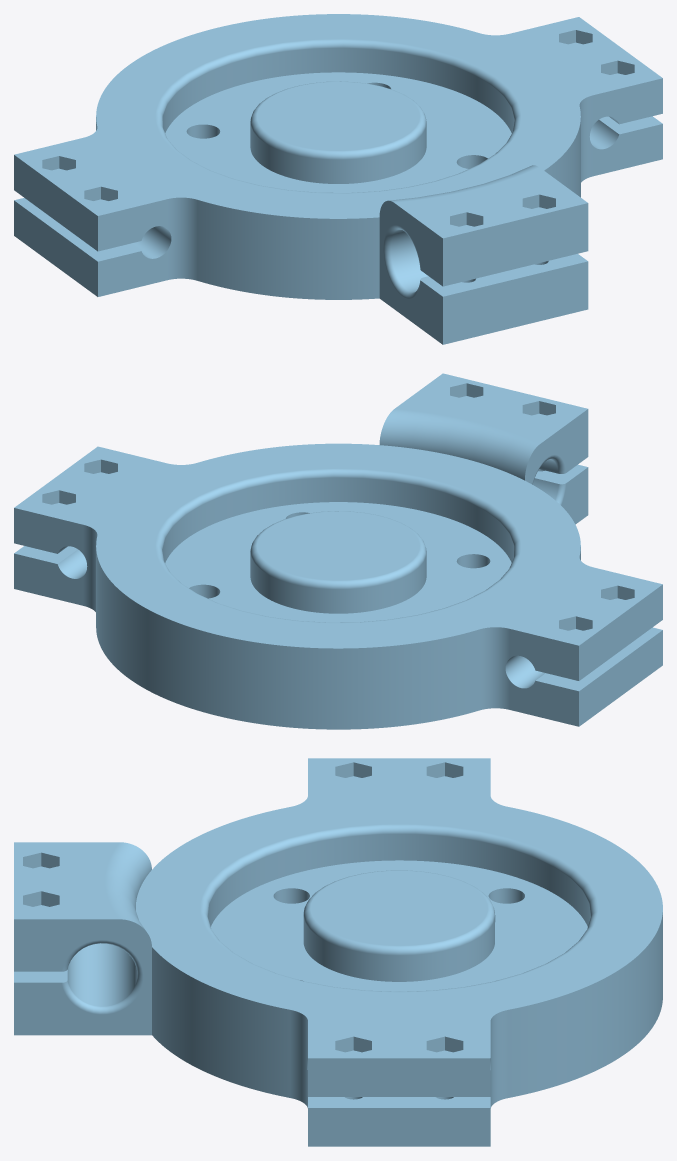
The picture shows the model from 3 angles, top to bottom: view 1: azimuth 30°, elevation 25°; view 2: azimuth 150°, elevation 25°; view 3: azimuth 270°, elevation 25°; orthographic projection. The views are drawn at different scales.
Visible parts, largest first — view 1: ID2; view 2: ID2; view 3: ID2.
Boxes of the visible parts, x1,y1,x2,y2 form: ID2: (14,14,662,344); ID2: (14,373,662,729); ID2: (14,758,662,1146).
Bounding box in the file's own units: 0.1167 × 0.1067 × 0.021.
